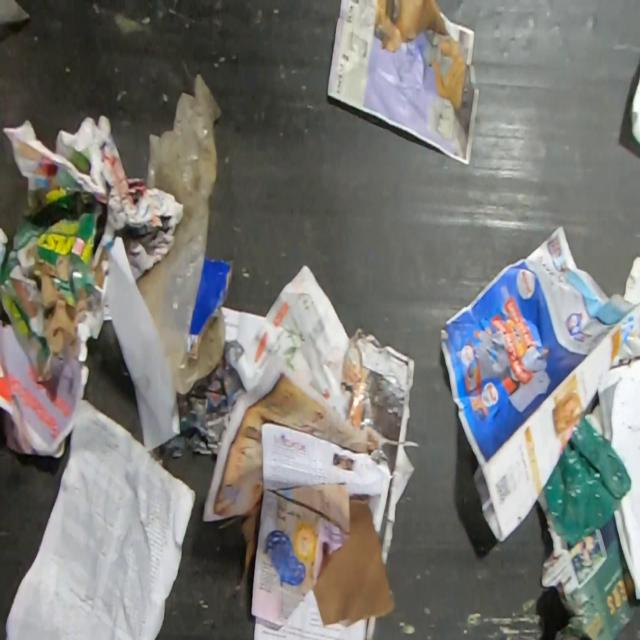cardboard: (0, 187, 107, 386), (539, 488, 639, 639), (312, 496, 396, 625), (186, 256, 236, 352)
soft_plastic: (135, 72, 227, 396), (543, 413, 631, 548)
